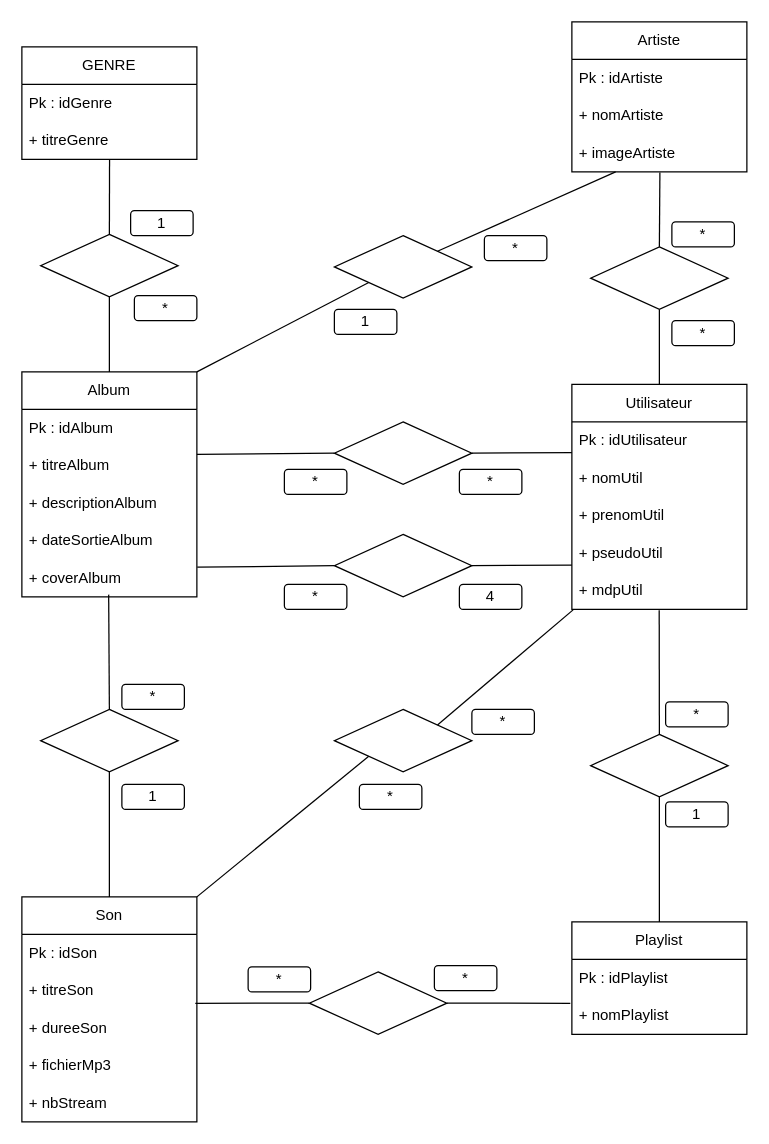
Image size: 769x1144. Some labels were removed from this diagram. The shapes that lost their labels are listed below. From the top down, each one's centre as x and y in pixels, then its label:
At (108,265): "Appartenir".
At (402,266): "Sortir".
At (658,277): "LikerArtiste".
At (402,452): "LikerAlbum".
At (402,565): "EcouterRecement".
At (108,740): "Composer".
At (402,740): "LikerSon".
At (658,765): "Concevoir".
At (377,1002): "Constituer".
